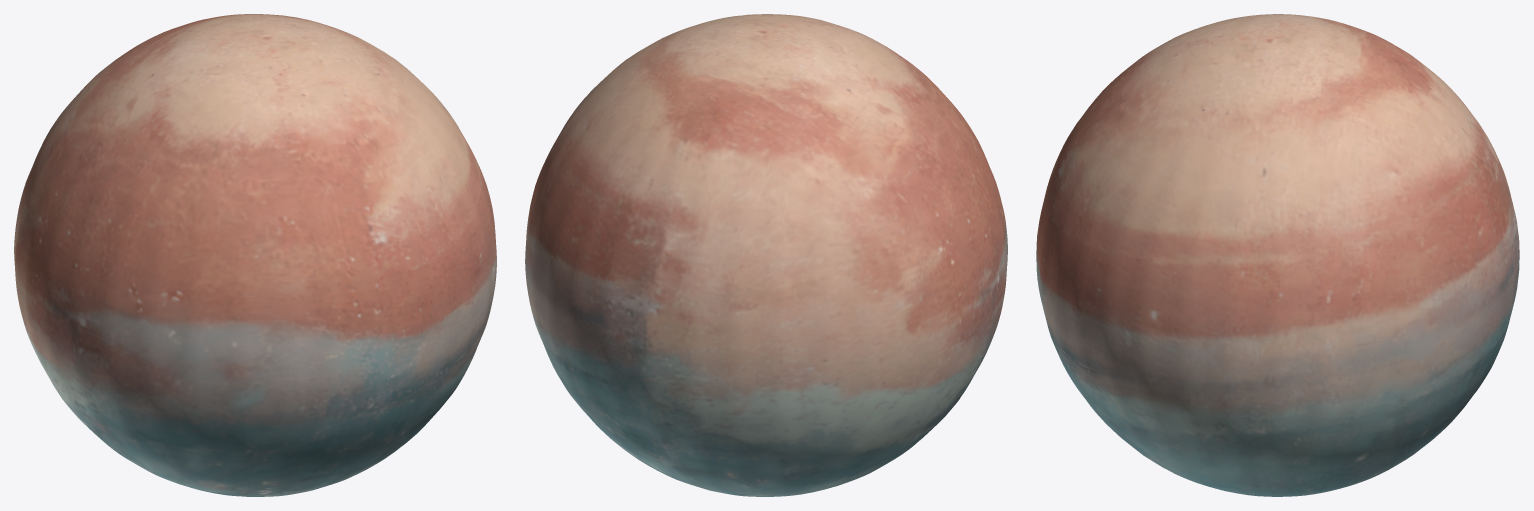
File: base_basic_pbr.glb
3 views of the same model, side by side, from view 1: azimuth 30°, elevation 25°; view 2: azimuth 150°, elevation 25°; view 3: azimuth 270°, elevation 25° (orthographic).
Visible parts, largest first — view 1: model; view 2: model; view 3: model.
Part boxes in pixels (x1,y1,x2,y2): model: [14, 14, 496, 496]; model: [525, 14, 1007, 496]; model: [1036, 14, 1519, 496].
Bounding box in the file's own units: 1.9 × 1.9 × 1.9.
Materials: 1 (1 with a texture image).
